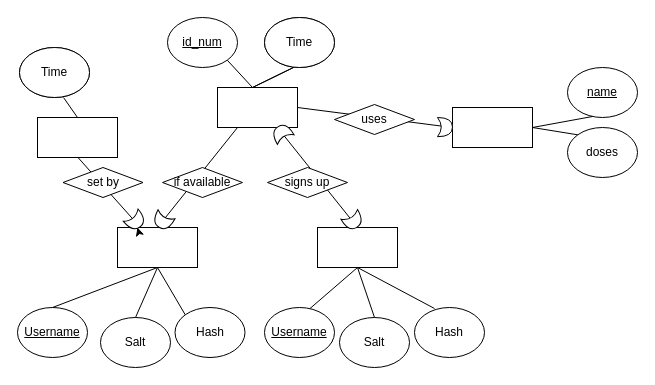
This 655x385 diagram has some shape labels left out. The box of each missing label's shape, as (x1, y1, x2, y2) in pixels:
Appointments: (216, 86, 298, 128)
Availabilities: (36, 116, 118, 158)
Caregiver: (116, 226, 198, 268)
Patient: (316, 226, 398, 268)
Vaccines: (452, 106, 532, 148)
